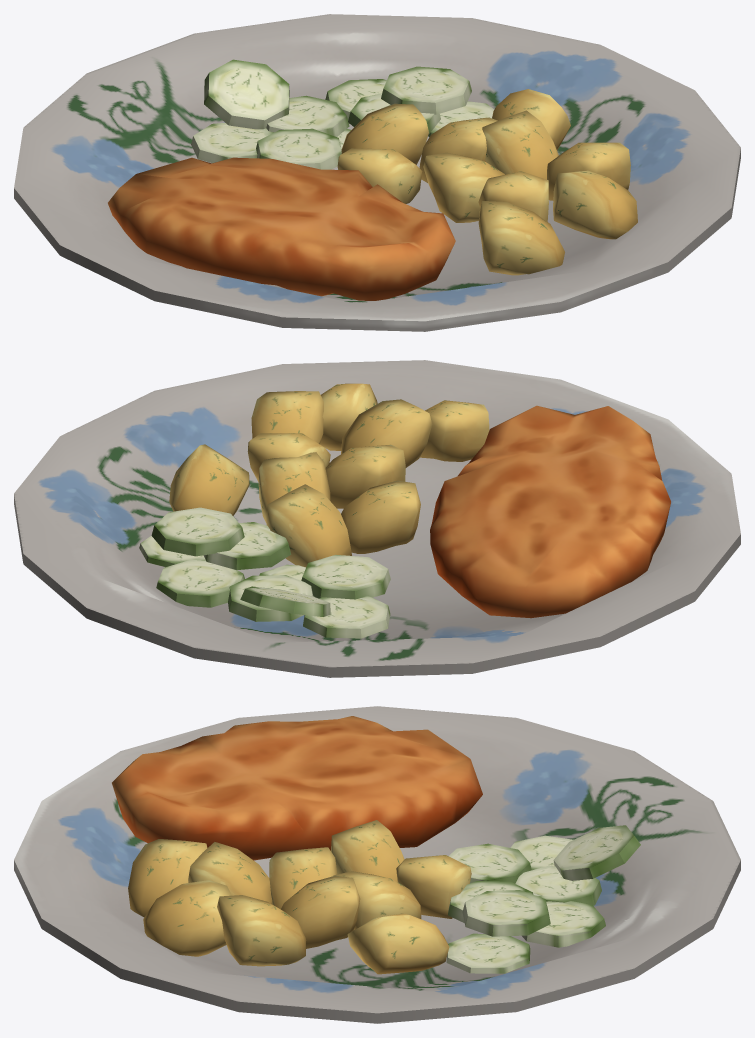
File: schabowyplate.fbx
The picture shows the model from 3 angles, top to bottom: view 1: azimuth 30°, elevation 25°; view 2: azimuth 150°, elevation 25°; view 3: azimuth 270°, elevation 25°; orthographic projection.
Visible parts, largest first — view 1: schabowyplate, shabowykotlet.001, Cube_autoremesh.002, cumcumbercreamy.008, Cube_autoremesh.001, Cube_autoremesh.005, Cube_autoremesh.006, Cube_autoremesh.009, cumcumbercreamy.009, Cube_autoremesh.008, cumcumbercreamy.005, Cube_autoremesh.003 (+8 smaller); view 2: schabowyplate, shabowykotlet.001, Cube_autoremesh.009, Cube_autoremesh.008, Cube_autoremesh.010, Cube_autoremesh.004, cumcumbercreamy.009, Cube_autoremesh.006, Cube_autoremesh.002, cumcumbercreamy.005, Cube_autoremesh.003, cumcumbercreamy.002 (+8 smaller); view 3: schabowyplate, shabowykotlet.001, Cube_autoremesh.003, Cube_autoremesh.001, Cube_autoremesh.010, Cube_autoremesh.005, Cube_autoremesh.002, cumcumbercreamy.009, Cube_autoremesh.009, cumcumbercreamy.008, Cube_autoremesh.008, Cube_autoremesh.004 (+8 smaller).
Part boxes in pixels (bbox=[...]): schabowyplate: bbox=[14, 14, 740, 331]; shabowykotlet.001: bbox=[108, 157, 455, 300]; Cube_autoremesh.002: bbox=[478, 201, 564, 275]; cumcumbercreamy.008: bbox=[204, 59, 289, 129]; Cube_autoremesh.001: bbox=[553, 170, 637, 239]; Cube_autoremesh.005: bbox=[482, 110, 558, 179]; Cube_autoremesh.006: bbox=[423, 152, 504, 222]; Cube_autoremesh.009: bbox=[341, 103, 428, 164]; cumcumbercreamy.009: bbox=[381, 66, 471, 114]; Cube_autoremesh.008: bbox=[337, 148, 422, 203]; cumcumbercreamy.005: bbox=[256, 128, 341, 169]; Cube_autoremesh.003: bbox=[547, 142, 630, 200]; schabowyplate: bbox=[14, 360, 740, 677]; shabowykotlet.001: bbox=[430, 405, 670, 618]; Cube_autoremesh.009: bbox=[266, 484, 351, 567]; Cube_autoremesh.008: bbox=[341, 480, 420, 553]; Cube_autoremesh.010: bbox=[169, 444, 249, 515]; Cube_autoremesh.004: bbox=[341, 399, 432, 467]; cumcumbercreamy.009: bbox=[151, 507, 244, 556]; Cube_autoremesh.006: bbox=[325, 444, 405, 508]; Cube_autoremesh.002: bbox=[420, 400, 489, 461]; cumcumbercreamy.005: bbox=[301, 554, 390, 599]; Cube_autoremesh.003: bbox=[251, 391, 323, 444]; cumcumbercreamy.002: bbox=[156, 559, 244, 607]; schabowyplate: bbox=[14, 706, 740, 1023]; shabowykotlet.001: bbox=[112, 716, 482, 860]; Cube_autoremesh.003: bbox=[217, 895, 306, 966]; Cube_autoremesh.001: bbox=[143, 880, 231, 956]; Cube_autoremesh.010: bbox=[347, 913, 449, 974]; Cube_autoremesh.005: bbox=[281, 875, 360, 948]; Cube_autoremesh.002: bbox=[128, 839, 207, 917]; cumcumbercreamy.009: bbox=[462, 890, 550, 936]; Cube_autoremesh.009: bbox=[396, 855, 471, 918]; cumcumbercreamy.008: bbox=[553, 825, 640, 880]; Cube_autoremesh.008: bbox=[331, 820, 404, 881]; Cube_autoremesh.004: bbox=[188, 842, 272, 904].
Bounding box in the file's own units: 52.18 × 6.42 × 52.18.
